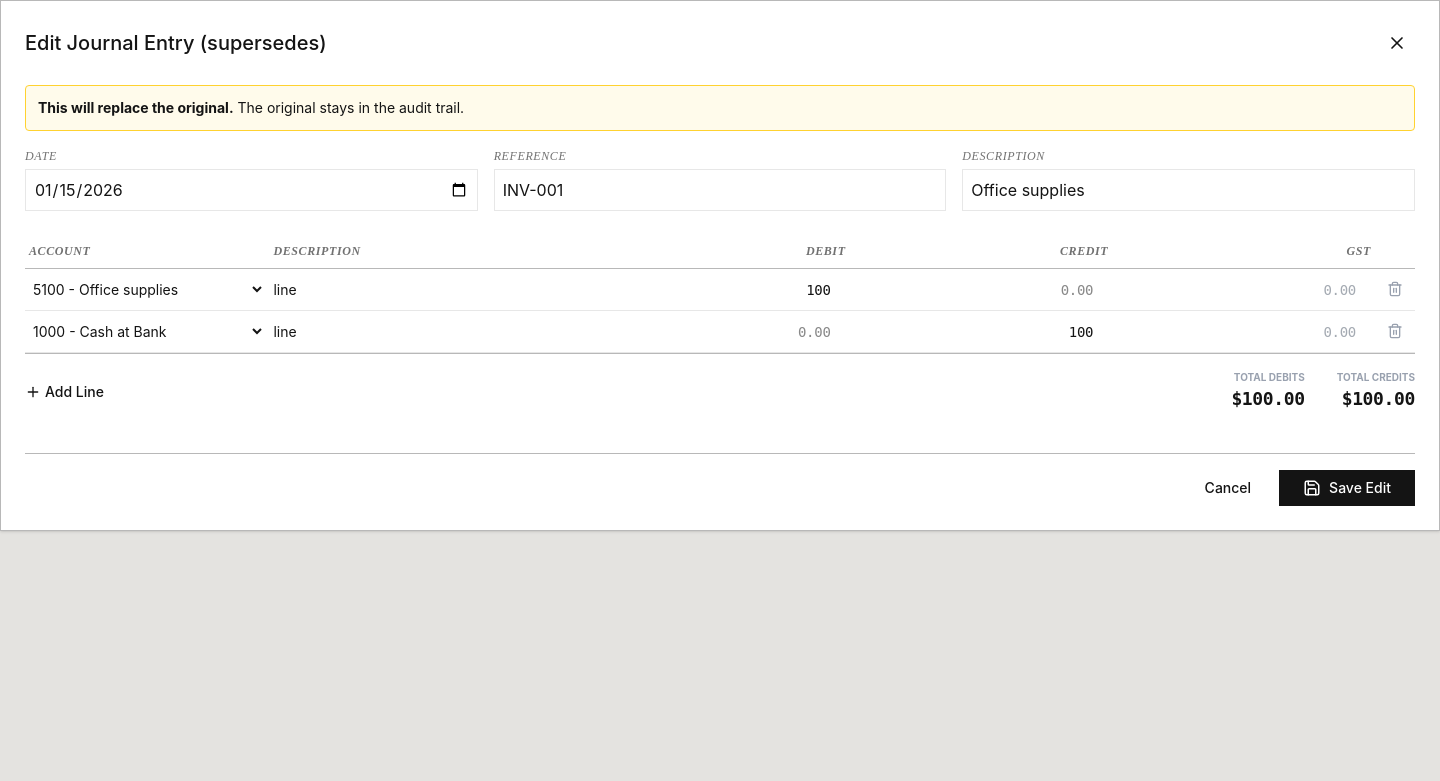
Test case: JournalForm (BOOK-02 banner + diff) › diff preview highlights changed lines
The width and height of the screenshot is (1440, 781).
Note: Change the description in the form
Replace the text in the 2nd field with placeholder "General description" with "Office supplies (Officeworks)" at (1189, 190), box [962,169,1415,211]
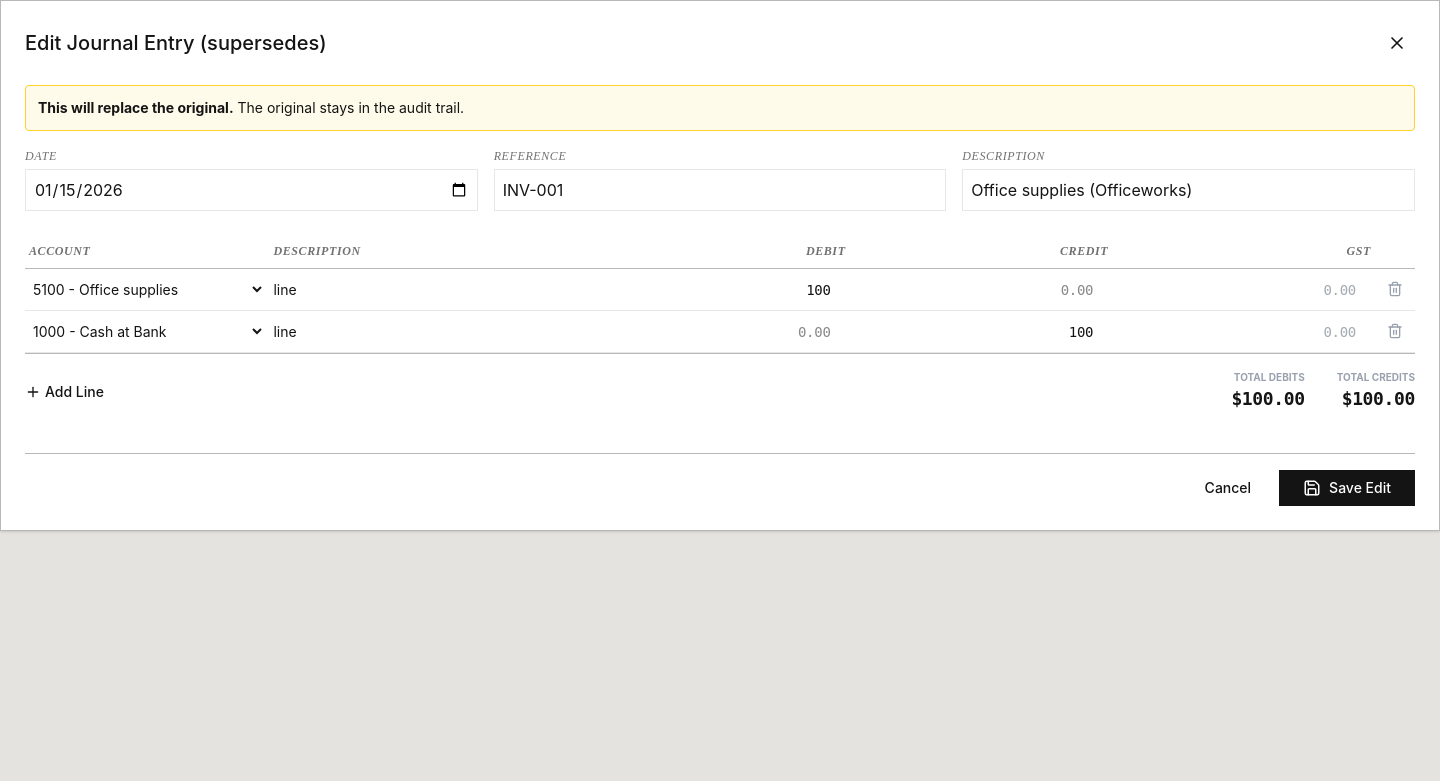
Submit the form with test id "save-edit-button", box [25,147,1415,506]
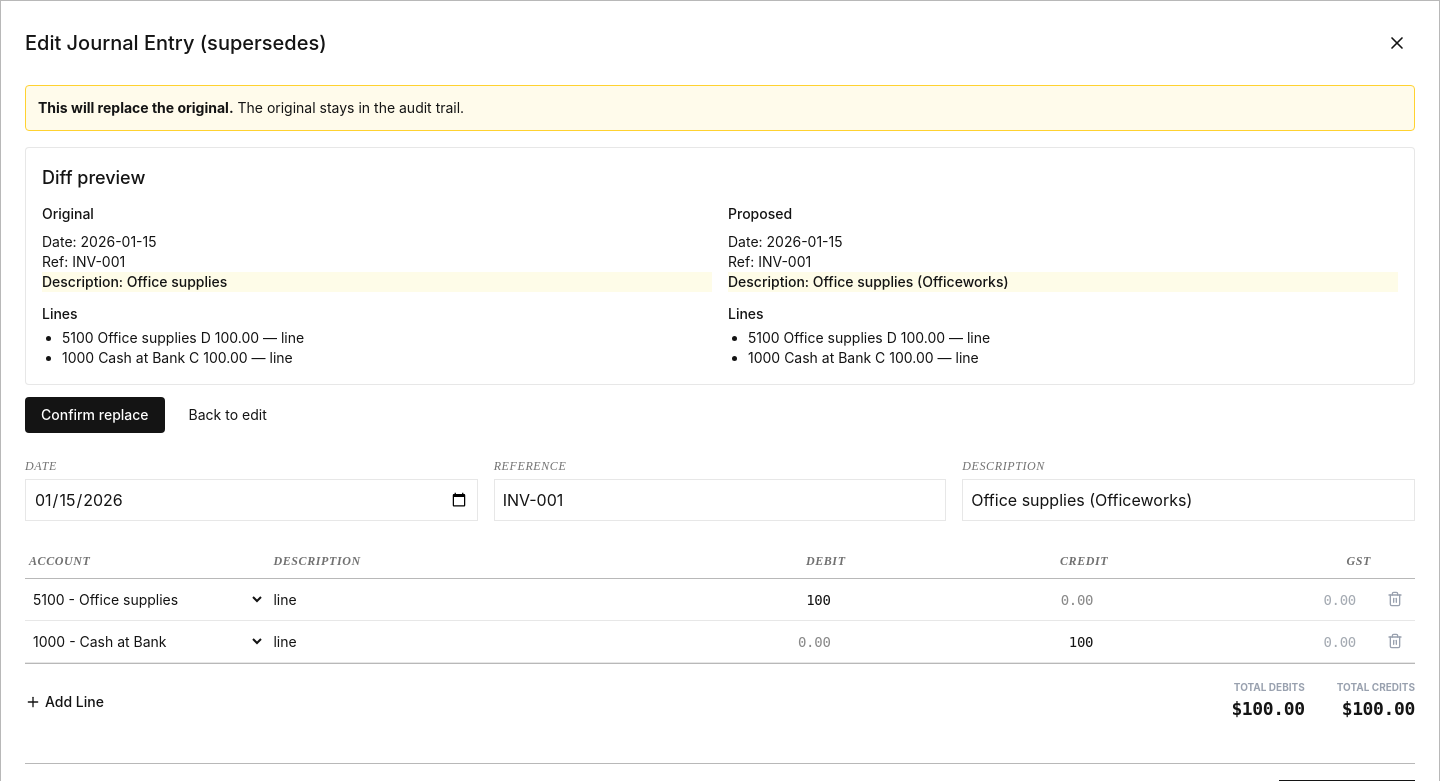
Expected: the text named "proposed-description" shows "Office supplies (Officeworks)", [813,273,1009,290]
